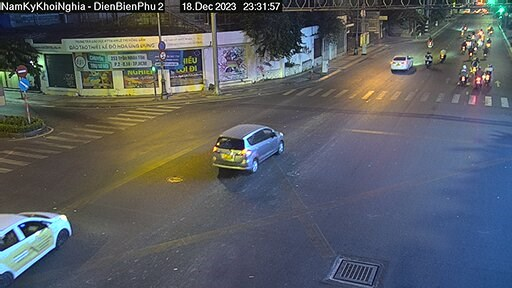car: (2, 193, 101, 284), (208, 112, 288, 177), (388, 51, 413, 73)
motorbike: (424, 38, 436, 51), (436, 49, 446, 64), (425, 51, 432, 63)
